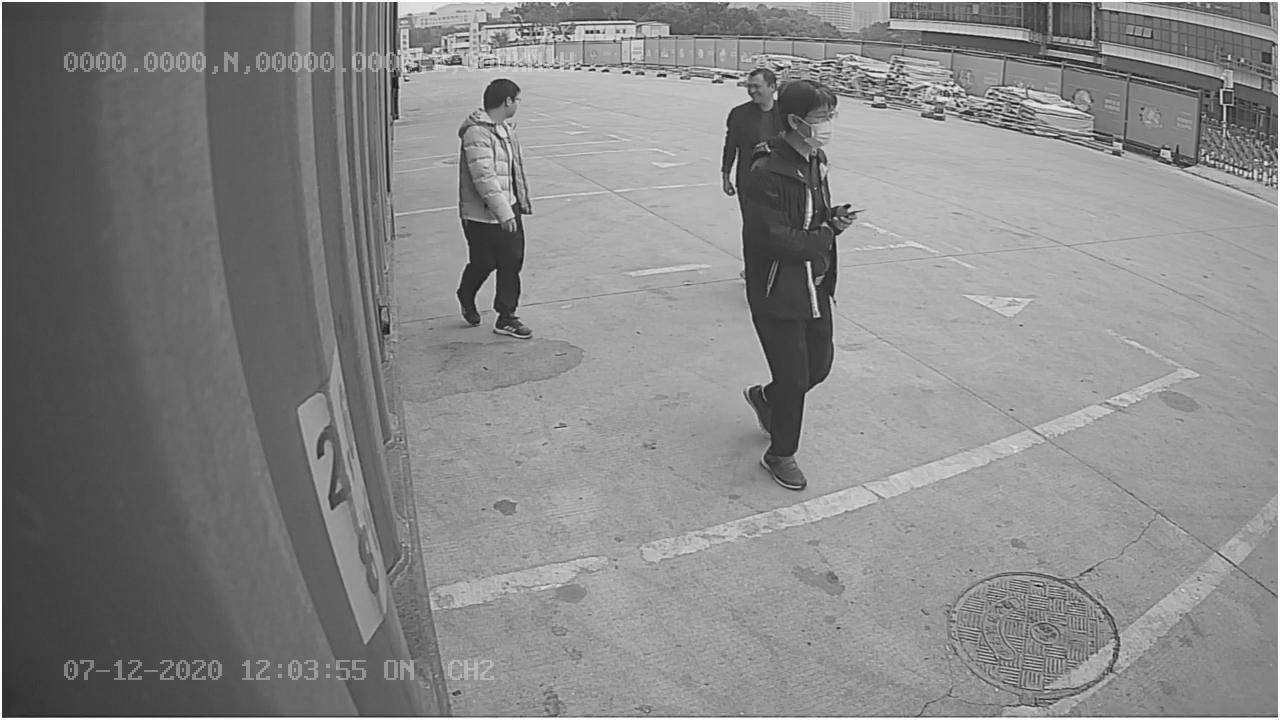person: (447, 78, 547, 341)
